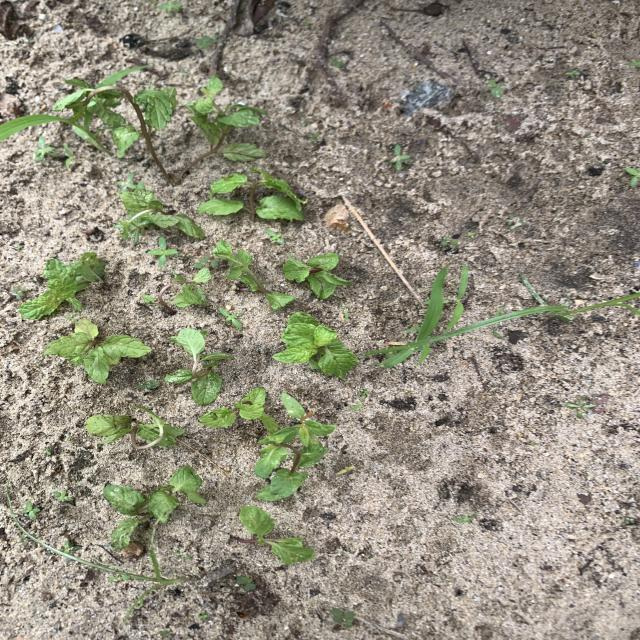crop: (53, 67, 176, 158), (104, 466, 206, 550), (256, 392, 335, 499), (186, 78, 264, 170), (45, 319, 150, 383), (19, 252, 103, 319), (273, 312, 358, 377), (198, 169, 306, 219), (213, 240, 286, 310), (166, 329, 232, 403), (115, 186, 203, 240), (238, 506, 314, 563), (86, 406, 183, 447), (200, 388, 276, 430), (283, 253, 351, 298), (156, 270, 209, 311)
weed: (6, 491, 189, 622), (420, 275, 640, 345), (381, 268, 447, 367), (0, 114, 79, 139), (446, 265, 469, 331), (149, 238, 178, 266), (565, 397, 595, 418), (388, 144, 411, 171), (34, 137, 55, 161), (220, 309, 243, 327), (333, 608, 354, 627), (483, 79, 503, 98), (118, 173, 138, 191), (21, 500, 39, 519), (154, 1, 181, 12), (194, 256, 219, 267), (195, 35, 217, 47), (353, 389, 366, 409), (625, 168, 639, 186), (237, 576, 254, 590), (507, 216, 523, 230), (53, 491, 72, 502), (267, 230, 283, 243), (63, 540, 79, 553), (140, 380, 158, 390), (441, 236, 457, 247), (456, 515, 474, 523), (337, 466, 354, 474), (13, 286, 23, 298), (199, 613, 212, 622), (142, 294, 154, 303), (565, 71, 579, 78), (160, 630, 170, 639)
